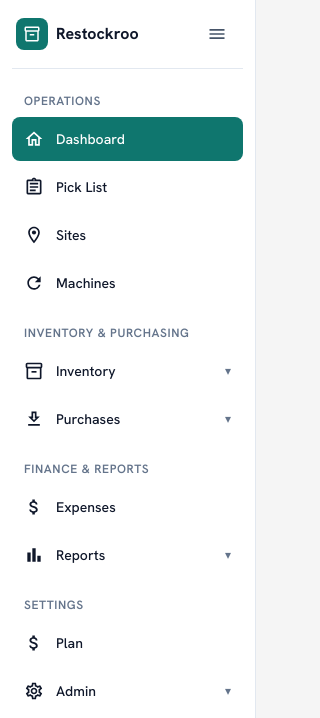
Scenario: SidebarNavComponent provider-locked destinations (issue #729) › renames the Products group Inventory, leaving the Products page its own name and URL
The image size is (320, 718).
Click the button "Inventory ▾". click: (128, 371)
box: [12,349,243,393]
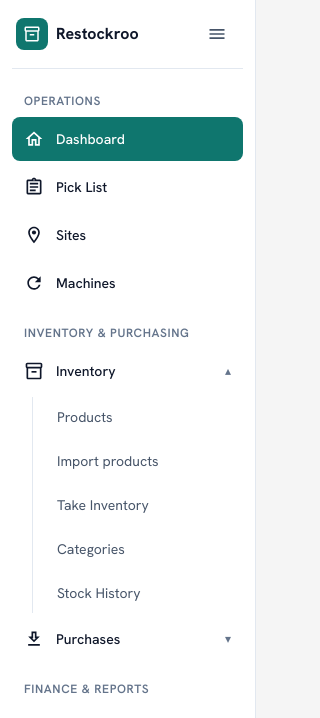
Expected: the text "Products" is shown, [57,406,113,428]
